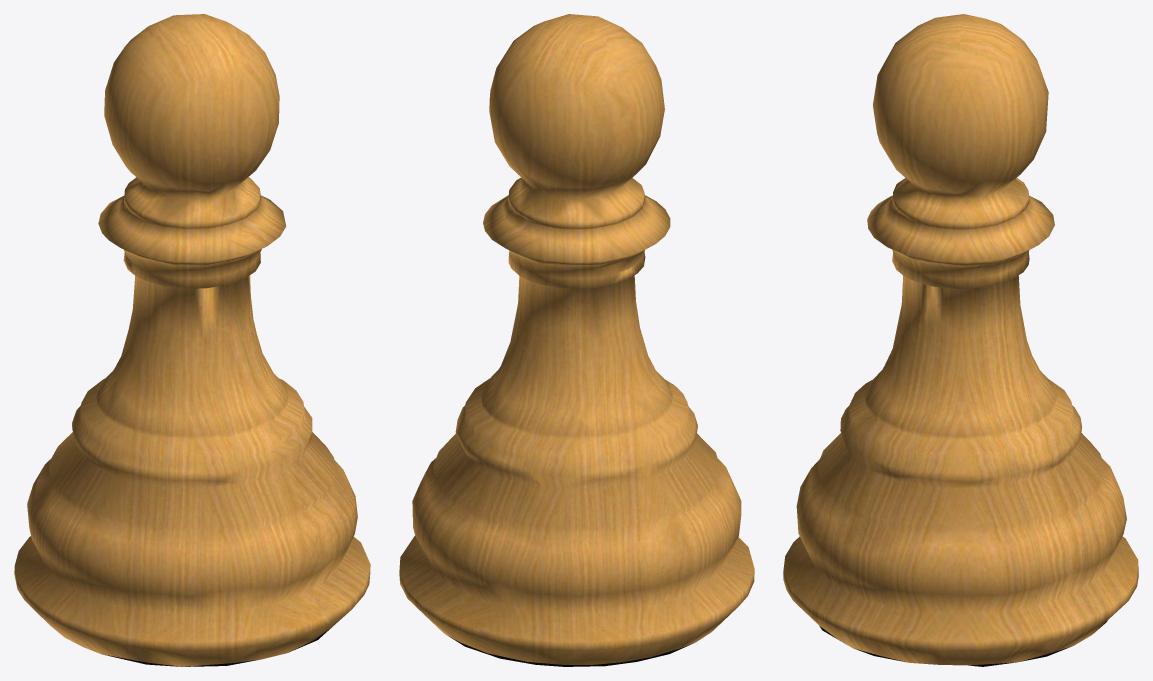
Rendered from Pawn.obj.
The picture shows the model from 3 angles, left to right: view 1: azimuth 30°, elevation 25°; view 2: azimuth 150°, elevation 25°; view 3: azimuth 270°, elevation 25°; orthographic projection.
Parts seen in each view (by area): view 1: Pawn; view 2: Pawn; view 3: Pawn.
Boxes of the visible parts, box(x1,y1,x2,y2) form: Pawn: box(14, 14, 370, 666); Pawn: box(399, 14, 754, 666); Pawn: box(783, 14, 1138, 666).
Size of the model in its own units: 4.46 by 8.03 by 4.46.
